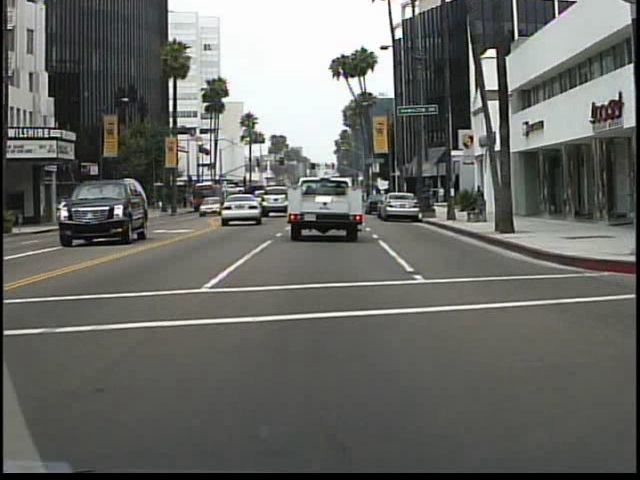person: (470, 182, 487, 215)
